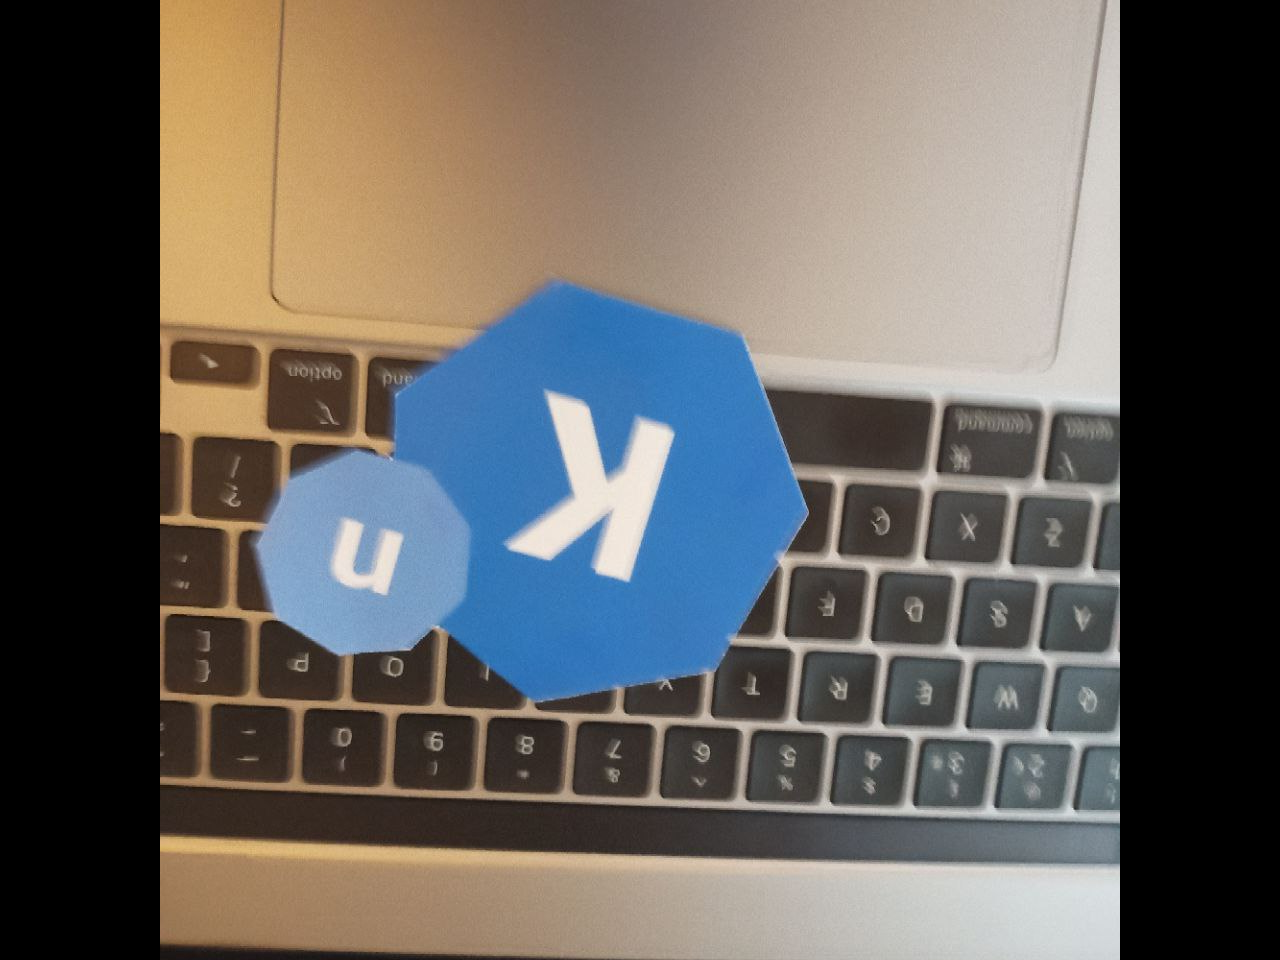knative: (256, 280, 807, 709)
